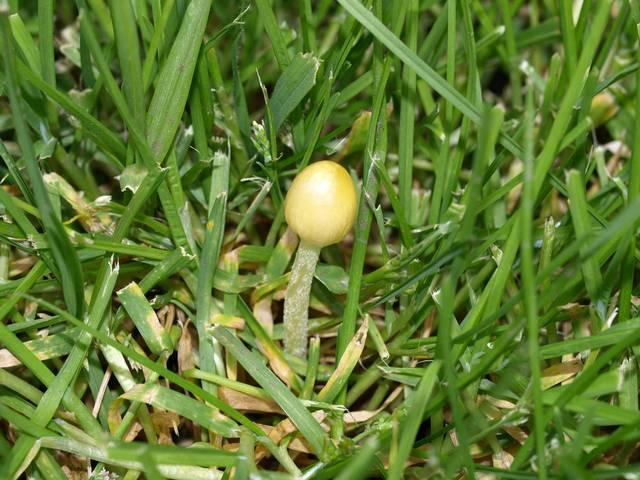Edible Mushroom: (279, 159, 357, 359)
